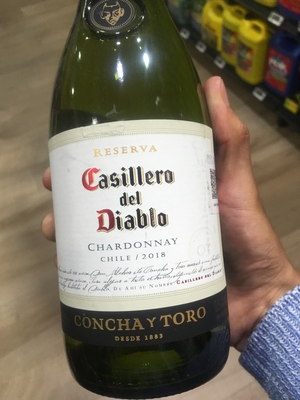casillero del diablo chardonnay: (40, 8, 243, 394)
